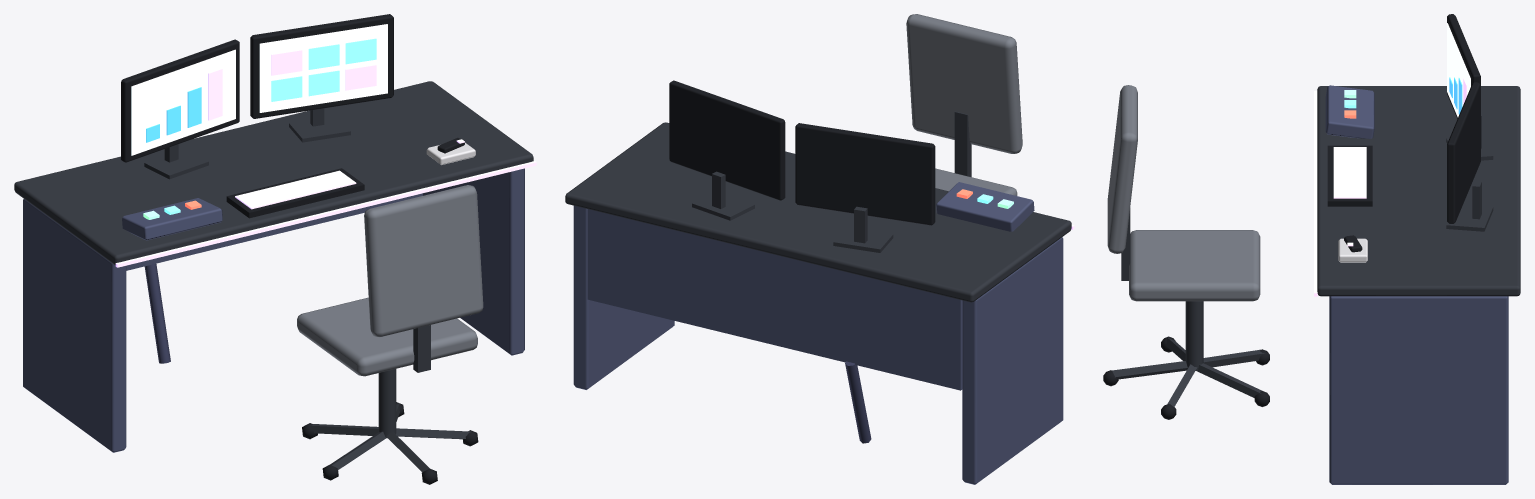
The model's file is station_processing_1.glb.
The picture shows the model from 3 angles, left to right: view 1: azimuth 30°, elevation 25°; view 2: azimuth 150°, elevation 25°; view 3: azimuth 270°, elevation 25°; orthographic projection. The views are drawn at different scales.
Parts seen in each view (by area): view 1: station_processing_1; view 2: station_processing_1; view 3: station_processing_1.
Boxes of the visible parts, x1,y1,x2,y2 form: station_processing_1: (14, 14, 536, 484); station_processing_1: (565, 14, 1074, 484); station_processing_1: (1103, 14, 1520, 484).
Bounding box in the file's own units: 1.6 × 1.14 × 1.4.
